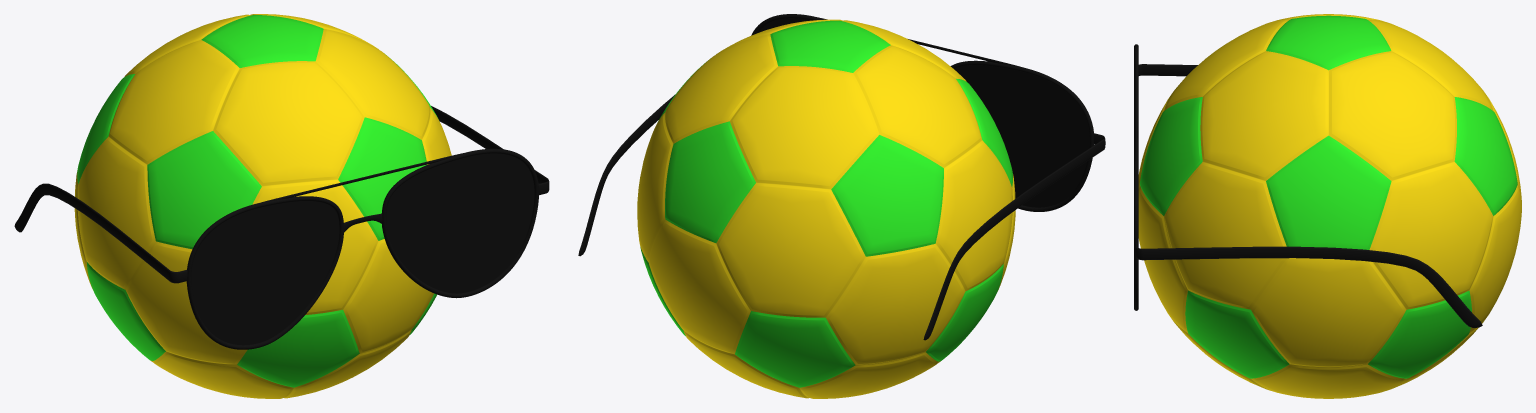
The model's file is Balonbsl.glb.
3 views of the same model, side by side, from view 1: azimuth 30°, elevation 25°; view 2: azimuth 150°, elevation 25°; view 3: azimuth 270°, elevation 25° (orthographic).
Parts seen in each view (by area): view 1: Esfera geodésica, Círculo Bezier, Círculo Bezier.001, Cubo.002, Cubo.003, Cubo.001; view 2: Esfera geodésica, Círculo Bezier, Cubo.002, Cubo.003, Círculo Bezier.001; view 3: Esfera geodésica, Cubo.003, Círculo Bezier.001, Cubo.002, Círculo Bezier.
Boxes of the visible parts, x1,y1,x2,y2 form: Esfera geodésica: [74, 14, 451, 398]; Círculo Bezier: [186, 196, 343, 349]; Círculo Bezier.001: [381, 148, 538, 298]; Cubo.002: [14, 183, 187, 283]; Cubo.003: [431, 106, 549, 195]; Cubo.001: [252, 151, 473, 205]; Esfera geodésica: [637, 19, 1015, 398]; Círculo Bezier: [950, 60, 1094, 211]; Cubo.002: [923, 133, 1105, 340]; Cubo.003: [578, 95, 674, 256]; Círculo Bezier.001: [751, 14, 823, 35]; Esfera geodésica: [1138, 14, 1521, 398]; Cubo.003: [1135, 243, 1482, 327]; Círculo Bezier.001: [1134, 137, 1138, 310]; Cubo.002: [1138, 64, 1197, 76]; Círculo Bezier: [1134, 44, 1138, 138].
Bounding box in the file's own units: 2 × 1.75 × 1.76.
